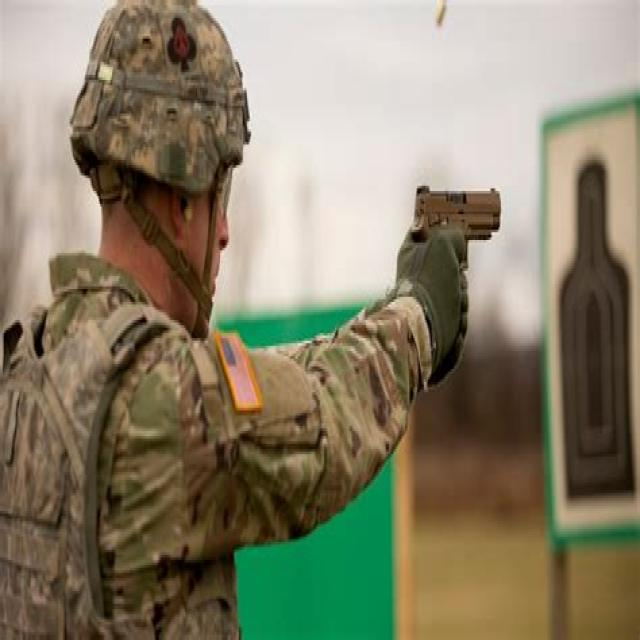weapons: (383, 150, 512, 355)
